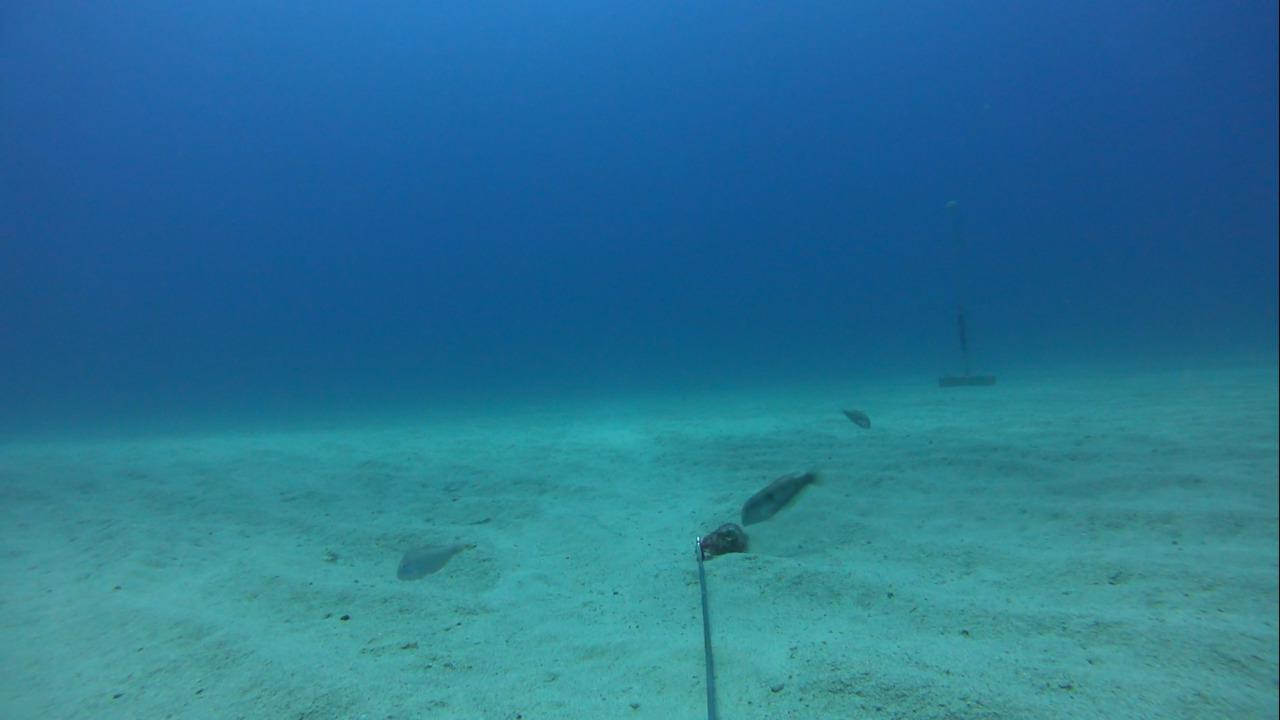raor: (737, 467, 826, 528), (389, 525, 480, 581), (833, 394, 880, 440)
